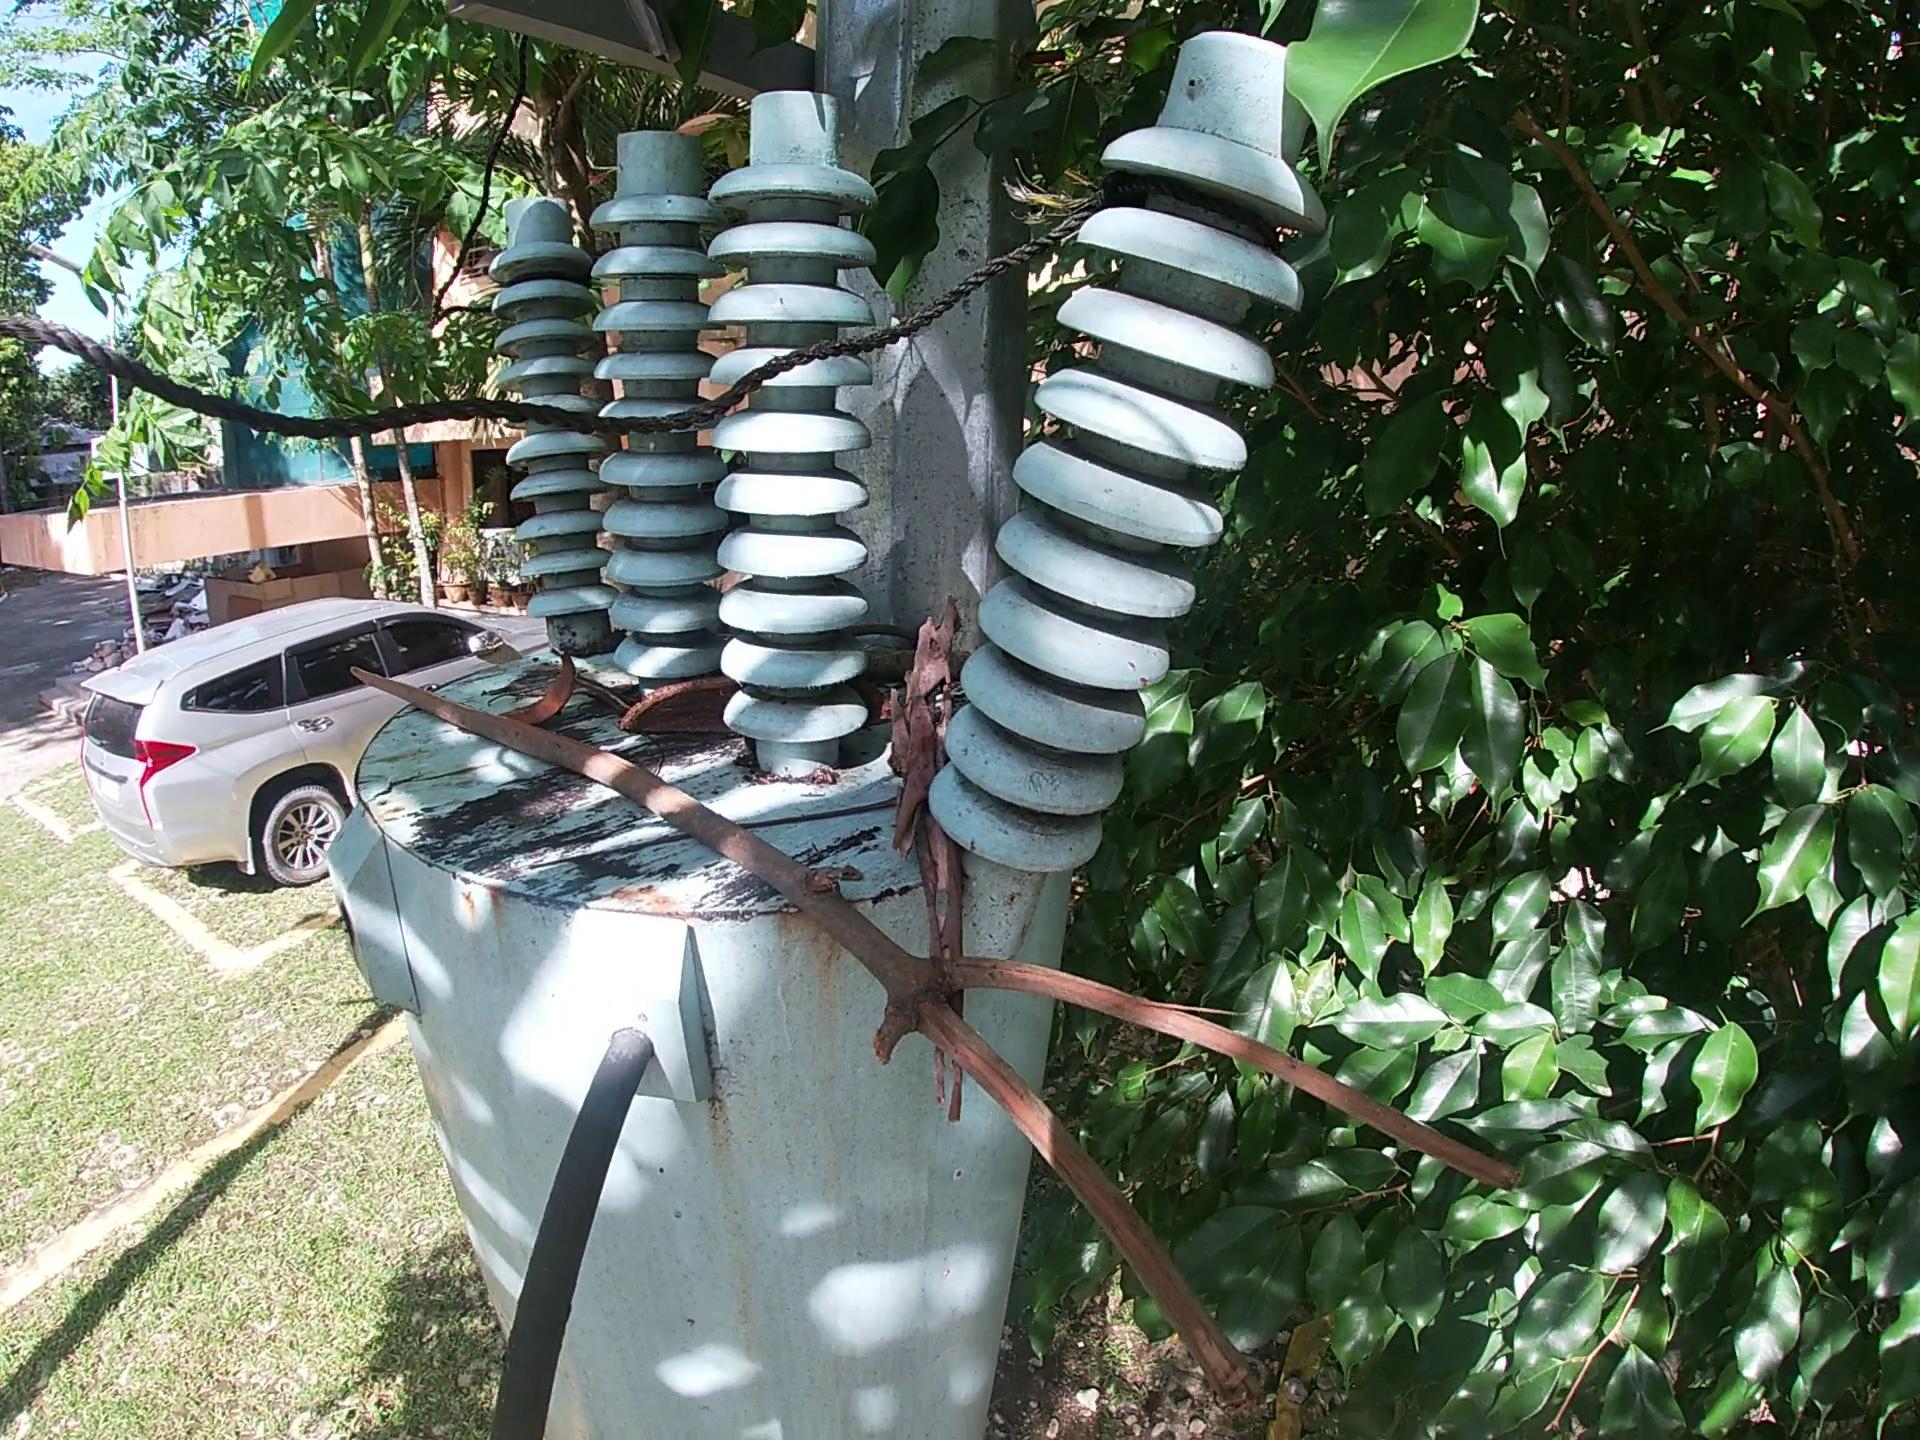mahogany fruit: (624, 687, 732, 761), (509, 661, 590, 711)
tree branch: (345, 663, 1569, 1414), (884, 590, 986, 1142), (735, 794, 900, 832), (856, 644, 930, 688), (847, 607, 930, 641)
